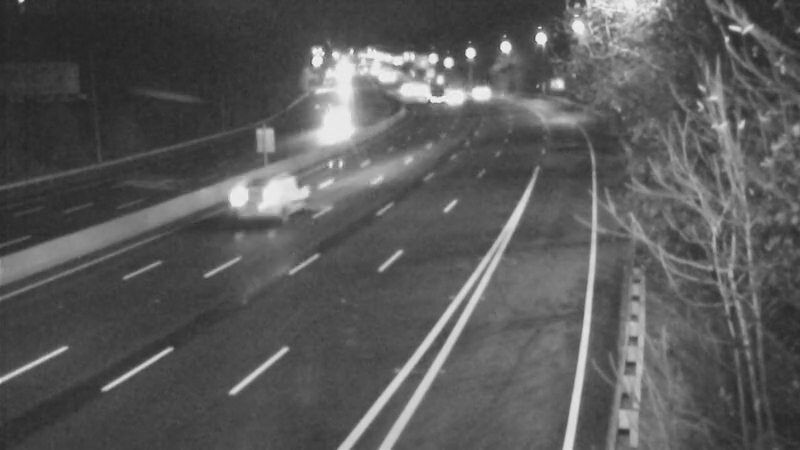vehicle: (224, 157, 304, 237), (408, 68, 458, 118), (425, 73, 475, 123), (460, 66, 510, 116), (319, 94, 369, 144)
